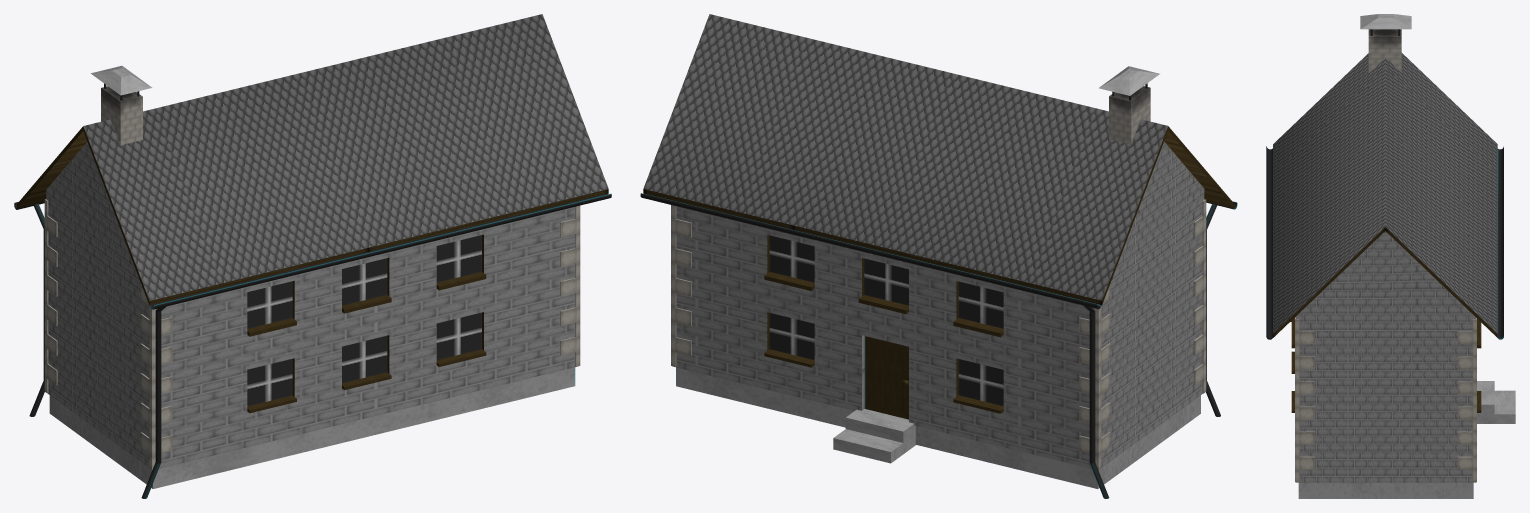
Rendered from House1.obj.
3 renders of one model, left to right at view 1: azimuth 30°, elevation 25°; view 2: azimuth 150°, elevation 25°; view 3: azimuth 270°, elevation 25°, orthographic. The views are drawn at different scales.
Visible parts, largest first — view 1: House1; view 2: House1; view 3: House1.
Part boxes in pixels (bbox=[...]): House1: bbox=[14, 14, 611, 498]; House1: bbox=[640, 14, 1237, 498]; House1: bbox=[1266, 14, 1515, 498].
Bounding box in the file's own units: 100 × 78.23 × 55.48.
